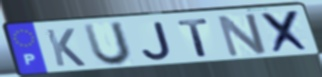J: (140, 20, 174, 62)
K: (43, 27, 88, 68)
N: (215, 12, 270, 59)
T: (175, 17, 212, 59)
U: (80, 20, 135, 68)
X: (258, 9, 313, 56)
